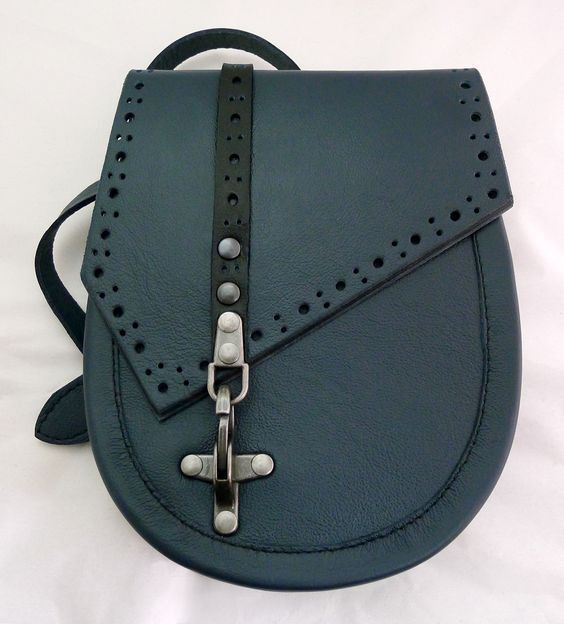cuero: (34, 27, 524, 593)
